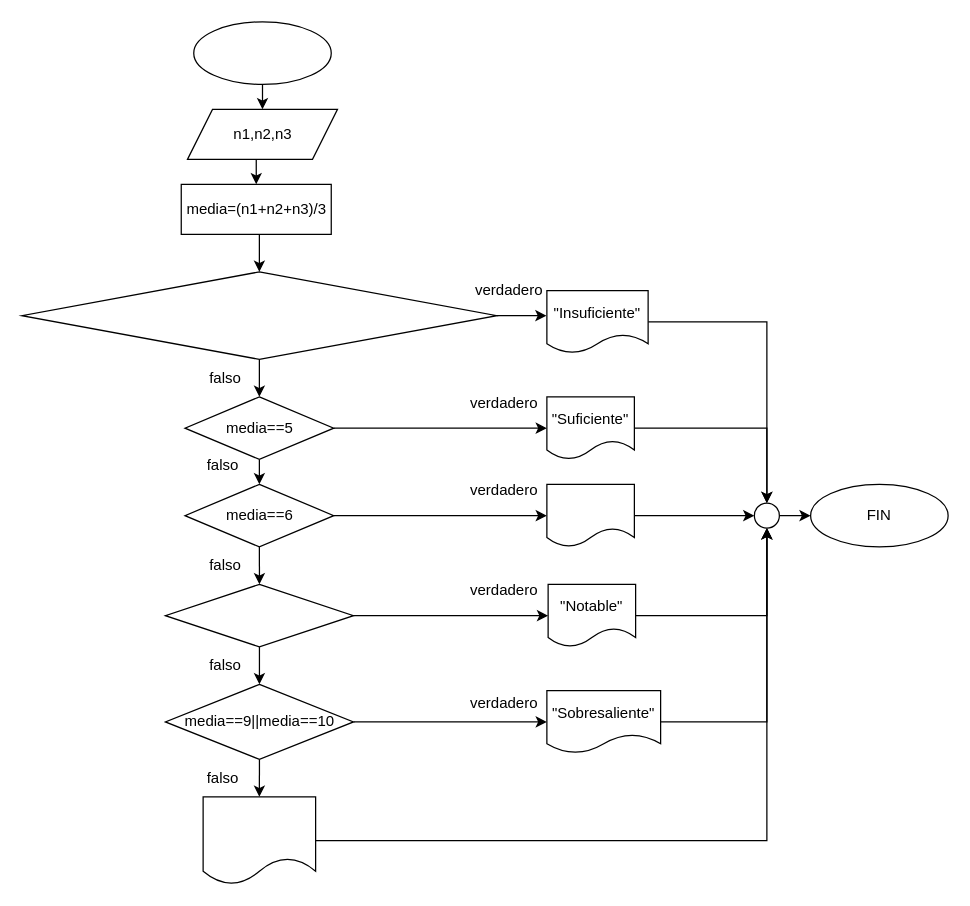
Some shapes in this 970 by 906 pixel diagram are drawn without their labels. The shapes that lost their labels are listed below. From the top down, each one's centre as x and y in pixels, then its label:
the point at 261,52: INICIO
the point at 259,315: media==0||media==1||media==2||media==3||media==4
the point at 590,515: "Bien"
the point at 259,615: media==7||media==8
the point at 259,840: "La opción escogida no es valida"
